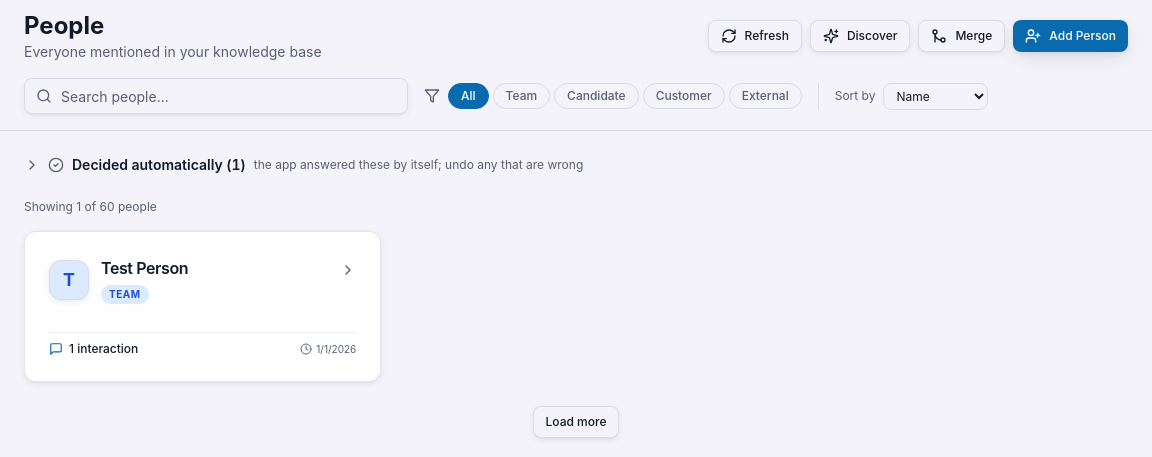
Test case: People Page › should show a Load more control when total exceeds page size, and append the next page on click
Expected: the heading "Test Person" is shown, [101, 256, 188, 280]
Step 1. Click the button "Load more" → (576, 422), box [532, 406, 620, 438]
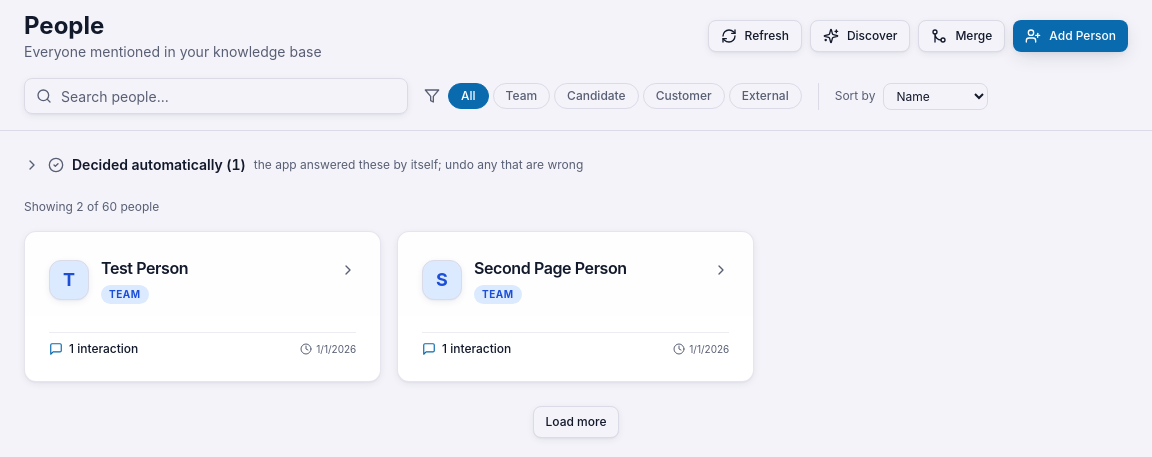
Expected: the heading "Second Page Person" is shown, [474, 256, 627, 280]
